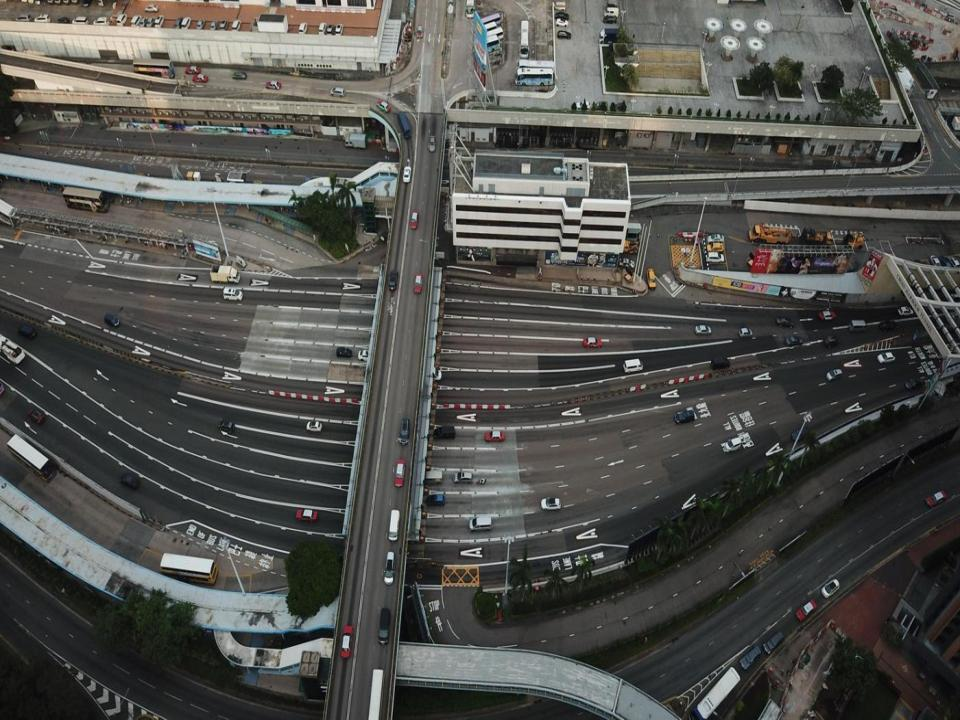bus: (688, 666, 740, 719), (7, 433, 55, 483), (160, 552, 218, 586), (62, 185, 109, 213), (132, 57, 174, 80), (368, 669, 385, 719), (515, 60, 554, 80), (515, 67, 553, 86), (477, 34, 500, 54), (479, 26, 503, 44), (519, 20, 529, 58), (398, 111, 410, 139), (478, 12, 501, 26), (477, 21, 497, 37), (465, 0, 475, 17)
car: (739, 645, 761, 670), (796, 598, 818, 620), (341, 625, 353, 658), (926, 490, 947, 508), (821, 578, 839, 598), (394, 460, 406, 487), (120, 473, 139, 489), (296, 509, 318, 522), (540, 497, 561, 510), (877, 351, 896, 364), (218, 419, 235, 433), (618, 257, 635, 270), (707, 232, 724, 245), (776, 316, 794, 328), (484, 432, 505, 442), (824, 335, 840, 348), (358, 350, 375, 362), (880, 320, 897, 332), (905, 378, 922, 390), (583, 337, 601, 348), (914, 258, 928, 272), (819, 310, 835, 322), (376, 100, 391, 112), (389, 270, 398, 290), (306, 421, 322, 432), (785, 336, 802, 346), (930, 254, 941, 269), (738, 327, 753, 338), (185, 65, 201, 75), (414, 273, 422, 293), (410, 210, 418, 229), (695, 326, 711, 335), (576, 100, 590, 110), (192, 74, 208, 82), (429, 135, 436, 153), (555, 12, 569, 21), (57, 16, 69, 26), (403, 165, 410, 182), (174, 17, 183, 30), (144, 4, 158, 12), (139, 16, 148, 28), (556, 18, 568, 27), (233, 72, 246, 80), (266, 82, 280, 89), (146, 16, 154, 28), (196, 19, 204, 31), (604, 16, 616, 24), (416, 24, 423, 37), (210, 20, 217, 31)
truck: (748, 224, 791, 247), (0, 335, 25, 365), (799, 226, 832, 248), (210, 264, 240, 284), (345, 133, 367, 150), (599, 28, 621, 44), (620, 239, 639, 255)
van: (762, 630, 784, 655), (378, 608, 389, 645), (388, 509, 400, 542), (419, 365, 442, 382), (469, 515, 492, 532), (384, 551, 395, 586), (622, 358, 642, 373), (18, 324, 36, 340), (434, 426, 456, 439), (675, 409, 694, 424), (223, 287, 243, 301), (422, 471, 442, 485), (399, 418, 409, 445), (710, 357, 730, 370), (28, 408, 44, 424), (707, 240, 723, 255), (792, 427, 809, 441), (454, 471, 472, 484), (725, 437, 740, 452), (104, 314, 121, 327), (647, 268, 657, 290), (849, 320, 867, 332), (426, 494, 444, 506), (706, 251, 724, 263), (826, 368, 843, 380), (610, 102, 626, 114), (93, 16, 110, 27), (604, 6, 619, 18), (33, 14, 50, 24), (948, 255, 960, 269), (330, 87, 345, 98), (336, 347, 351, 358), (72, 16, 88, 26), (938, 255, 950, 268), (898, 305, 912, 316), (15, 14, 31, 23), (130, 14, 142, 26), (231, 19, 241, 33), (557, 30, 571, 40), (116, 14, 127, 26), (154, 15, 164, 28), (181, 16, 191, 29), (594, 102, 607, 112), (298, 22, 308, 34), (318, 22, 326, 36), (219, 20, 228, 32), (334, 23, 342, 36), (326, 24, 334, 36), (607, 4, 618, 12)
